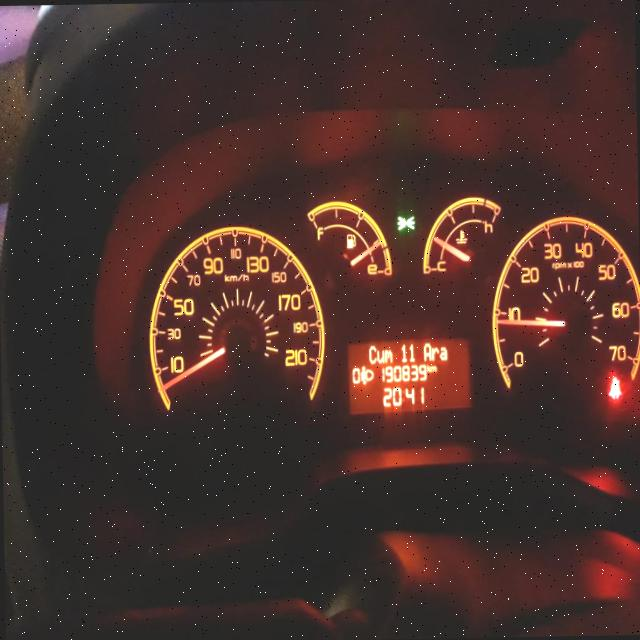odometer: (344, 334, 472, 416)
